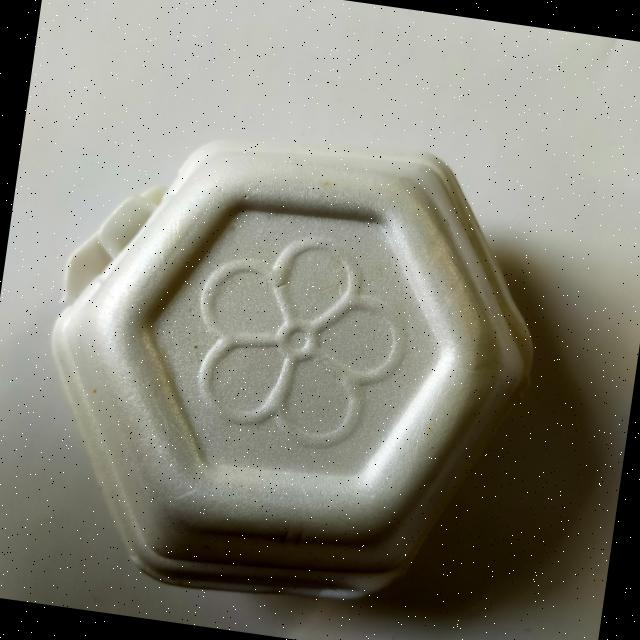styrofoam: (18, 101, 562, 631)
